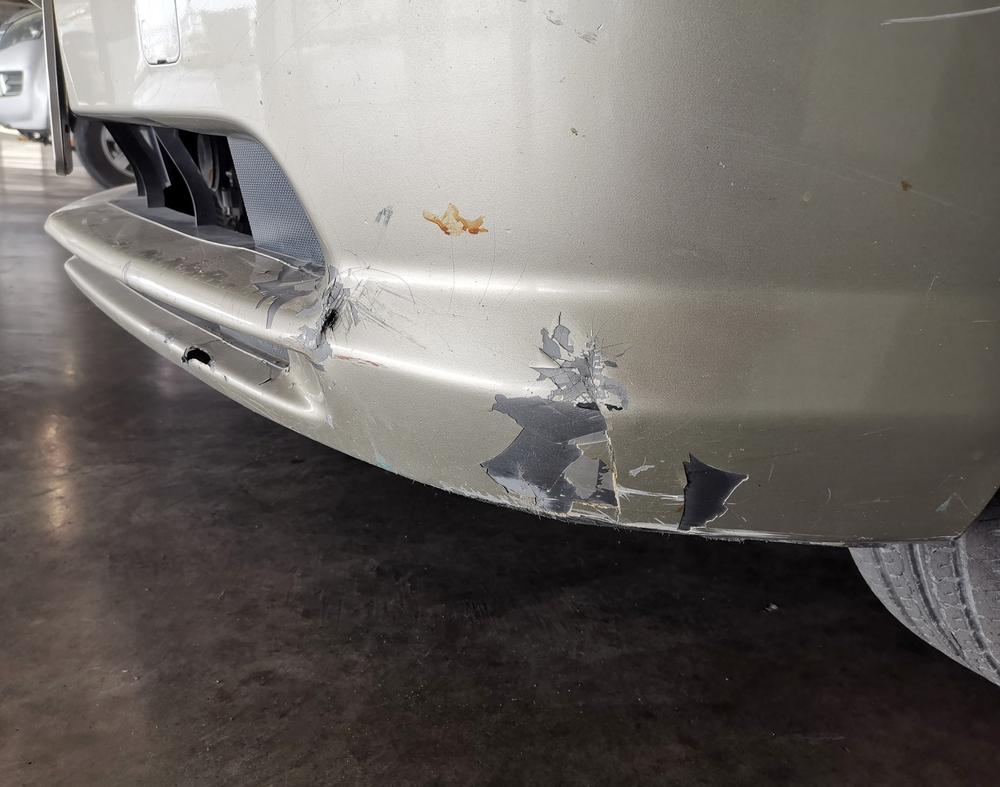crack: (182, 348, 214, 368)
scratch: (456, 316, 844, 546), (255, 252, 428, 356)
